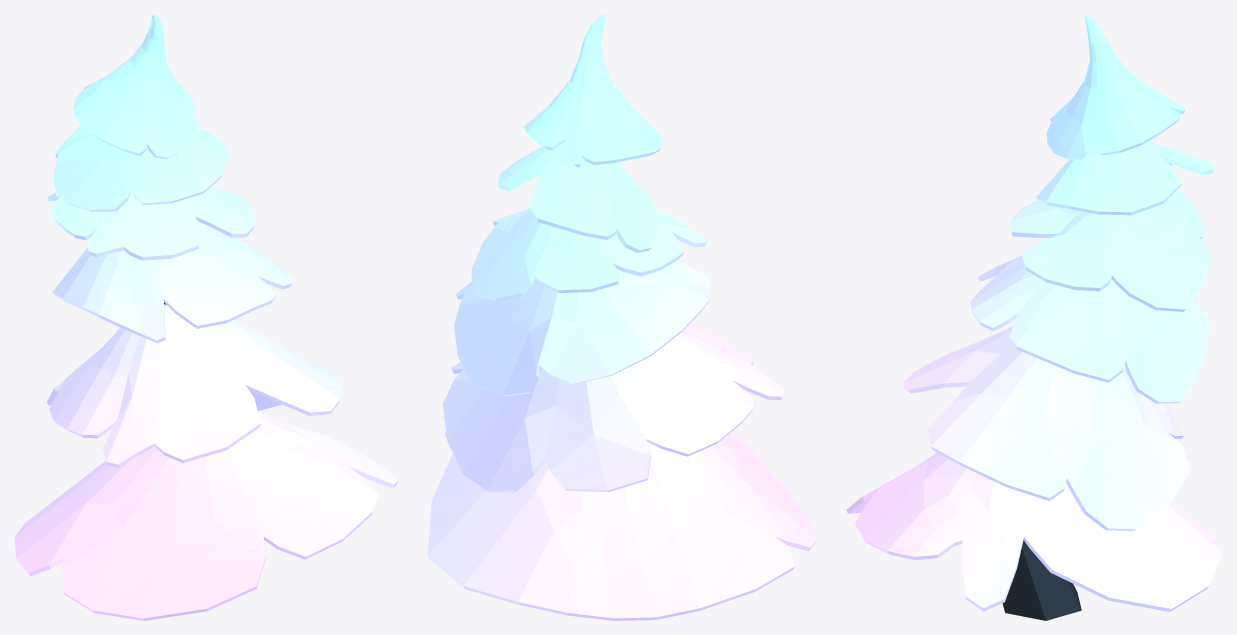
File: treeMedium.glb
The picture shows the model from 3 angles, left to right: view 1: azimuth 30°, elevation 25°; view 2: azimuth 150°, elevation 25°; view 3: azimuth 270°, elevation 25°; orthographic projection. The views are drawn at different scales.
Visible parts, largest first — view 1: PineTree_Snow_3; view 2: PineTree_Snow_3; view 3: PineTree_Snow_3.
Part boxes in pixels (x1=…): PineTree_Snow_3: x1=14, y1=14, x2=398, y2=620; PineTree_Snow_3: x1=427, y1=14, x2=817, y2=620; PineTree_Snow_3: x1=846, y1=14, x2=1222, y2=620.
Size of the model in its own units: 5.41 by 8.26 by 4.88.
Materials: 2 (1 with a texture image).
